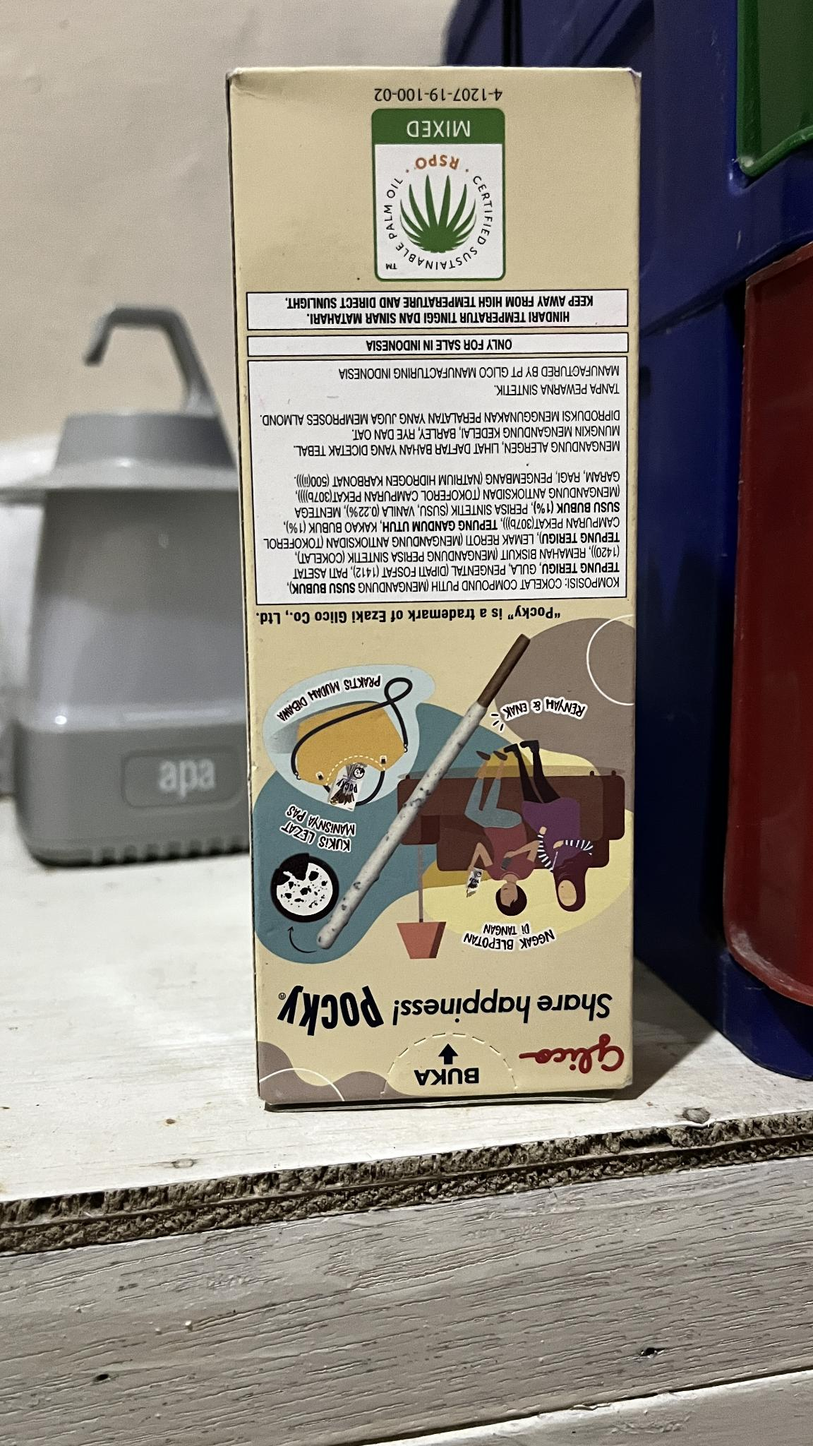Kertas: (229, 68, 649, 1108)
